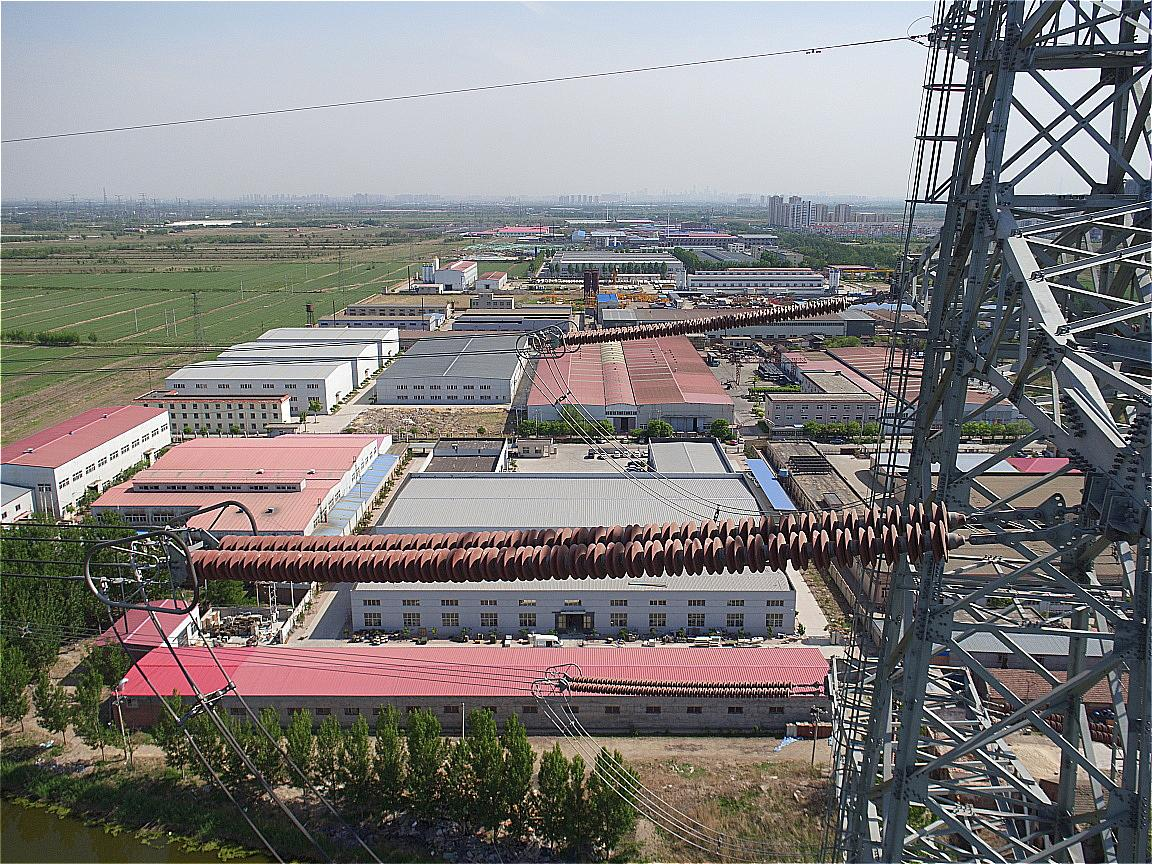insultor2: (187, 500, 950, 582), (560, 294, 849, 348)
